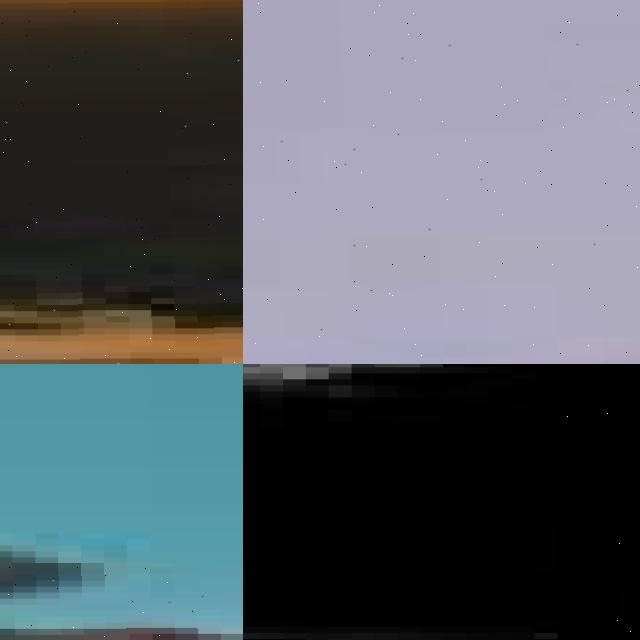street light: (243, 0, 640, 364), (0, 0, 243, 364), (557, 364, 640, 640), (0, 563, 243, 640)
